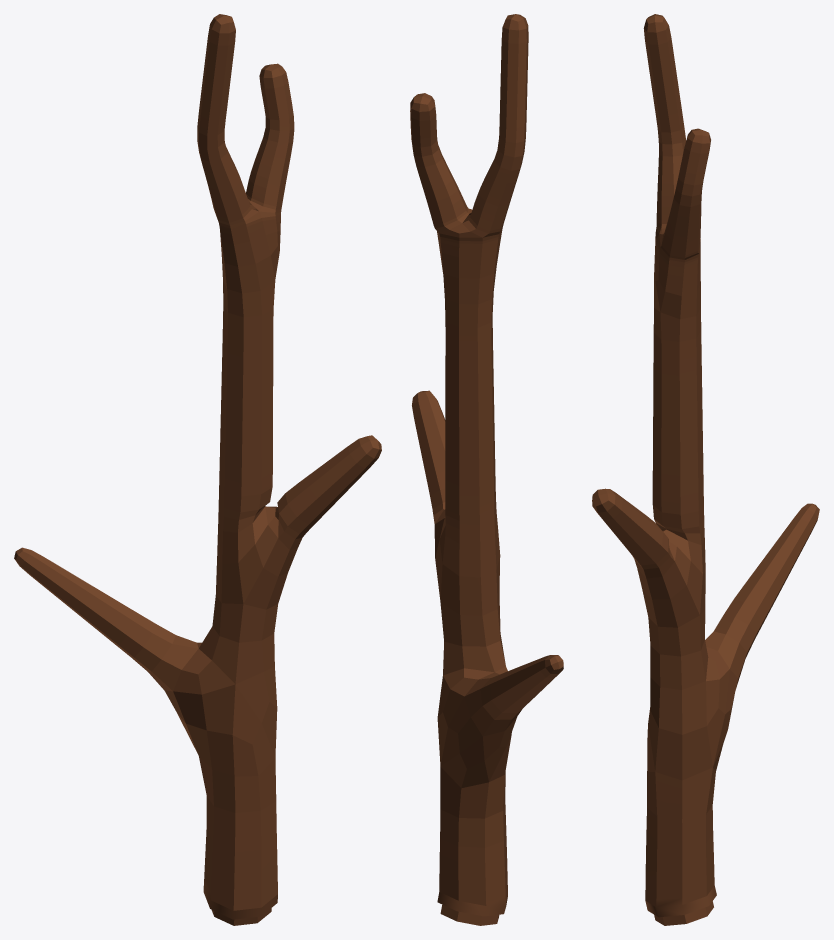
File: Stick.fbx
3 renders of one model, left to right at view 1: azimuth 30°, elevation 25°; view 2: azimuth 150°, elevation 25°; view 3: azimuth 270°, elevation 25°, orthographic. The views are drawn at different scales.
Visible parts, largest first — view 1: Stick; view 2: Stick; view 3: Stick.
Boxes of the visible parts, x1=… form: Stick: x1=14, y1=14, x2=381, y2=925; Stick: x1=410, y1=14, x2=563, y2=925; Stick: x1=592, y1=14, x2=819, y2=925.
Bounding box in the file's own units: 11.21 × 38.02 × 8.82.
